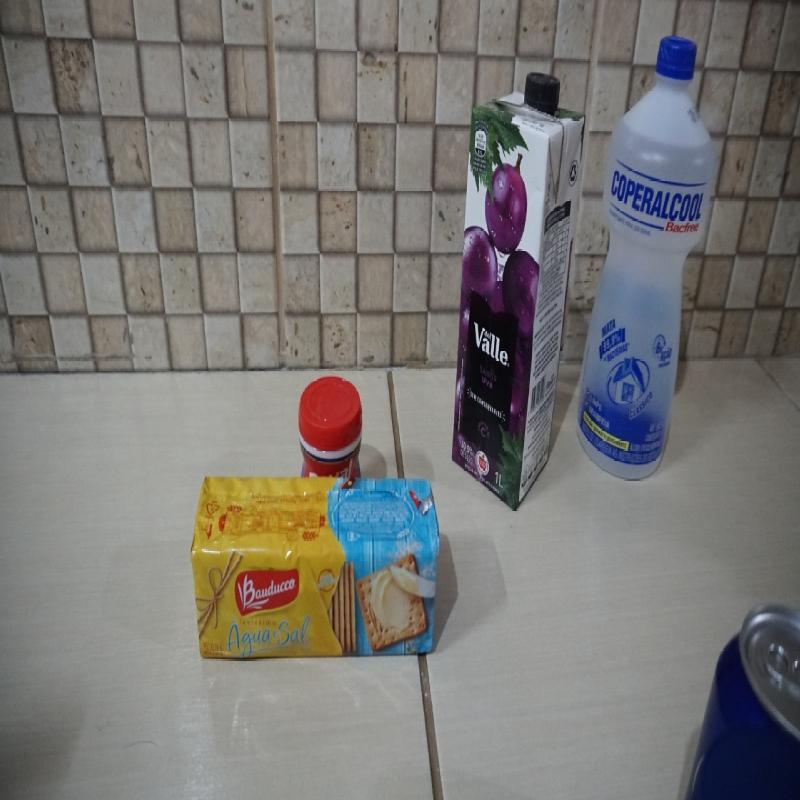Alcohol Bottle: (574, 34, 716, 484)
Cracker: (191, 473, 441, 665)
Soda can: (680, 601, 800, 800)
Yeast: (297, 373, 363, 478)
